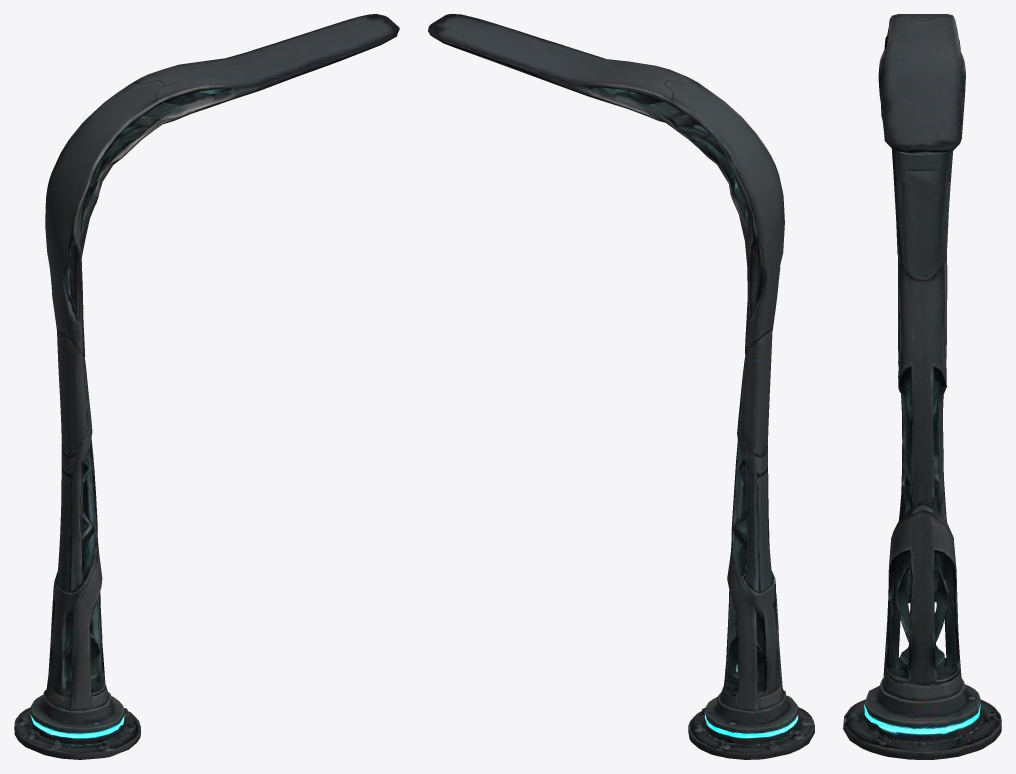
Rendered from lamp-a.glb.
3 renders of one model, left to right at view 1: azimuth 30°, elevation 25°; view 2: azimuth 150°, elevation 25°; view 3: azimuth 270°, elevation 25°, orthographic. The views are drawn at different scales.
Visible parts, largest first — view 1: SM_lamp_a; view 2: SM_lamp_a; view 3: SM_lamp_a.
Part boxes in pixels (bbox=[...]): SM_lamp_a: bbox=[14, 14, 399, 759]; SM_lamp_a: bbox=[428, 14, 814, 759]; SM_lamp_a: bbox=[843, 14, 1001, 759].
Size of the model in its own units: 0.5951 by 0.9783 by 0.184.
1 material, 1 textured.
